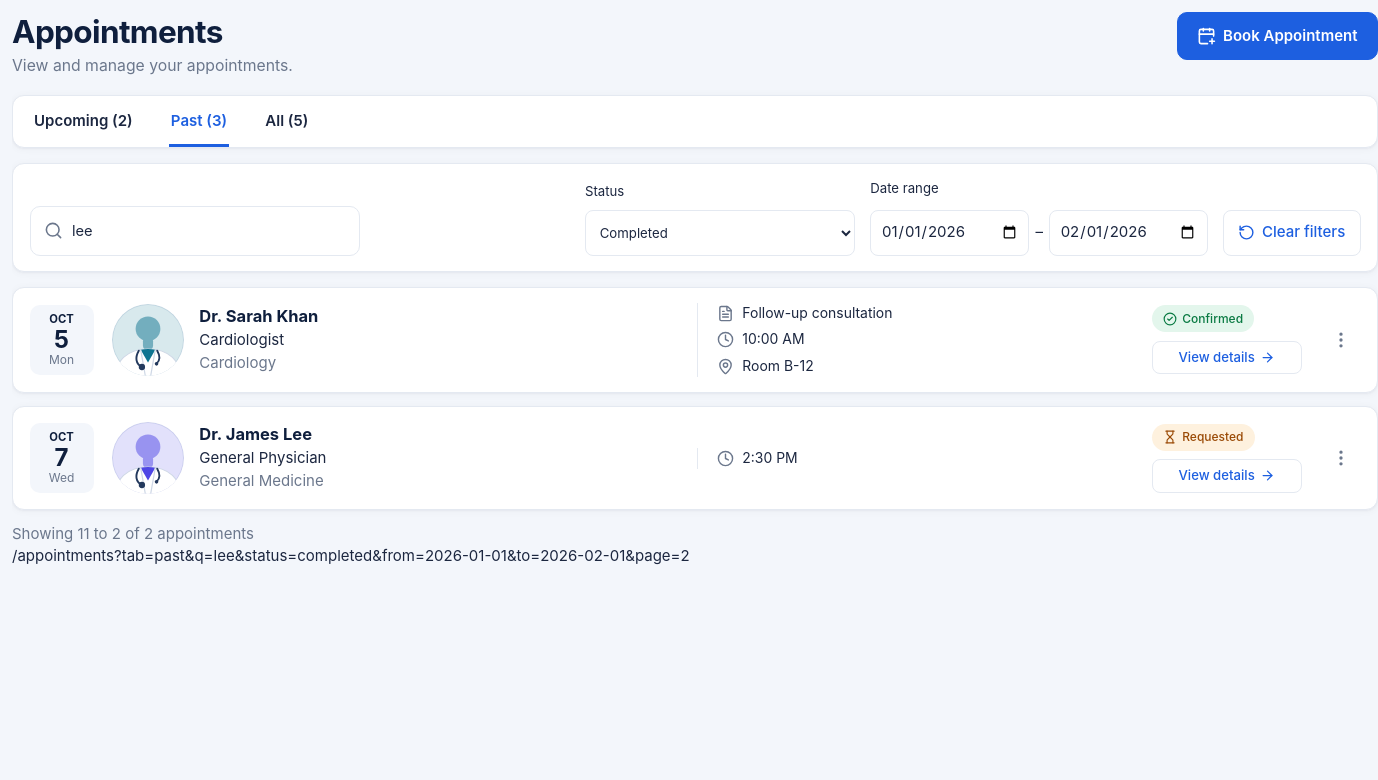
search and filters › clears every filter but keeps the tab
Expected: the search field named "Search by doctor" holds "lee", left=72, top=210, right=345, bottom=250
What coordinates should you click on to do the following:
click the button "Clear filters"
I would click on:
 (1292, 232)
Its box is left=1223, top=210, right=1360, bottom=256.
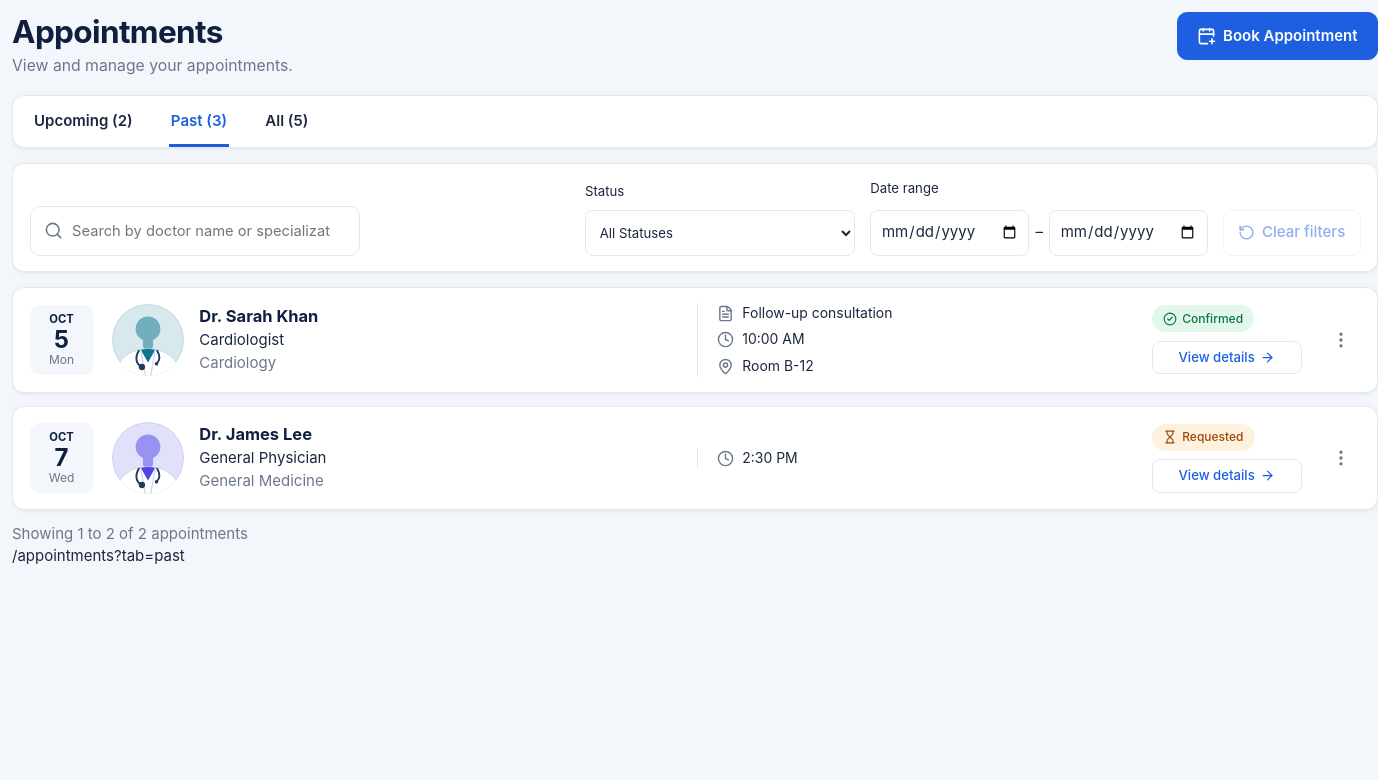
Expected: the text with test id "where" reads "/appointments?tab=past", left=12, top=546, right=185, bottom=565
Now the search field labelled "Search by doctor name or specialization…" is empty, box left=72, top=210, right=345, bottom=250
Now the dropdown labelled "Status" shows "All Statuses", box left=585, top=210, right=855, bottom=256
